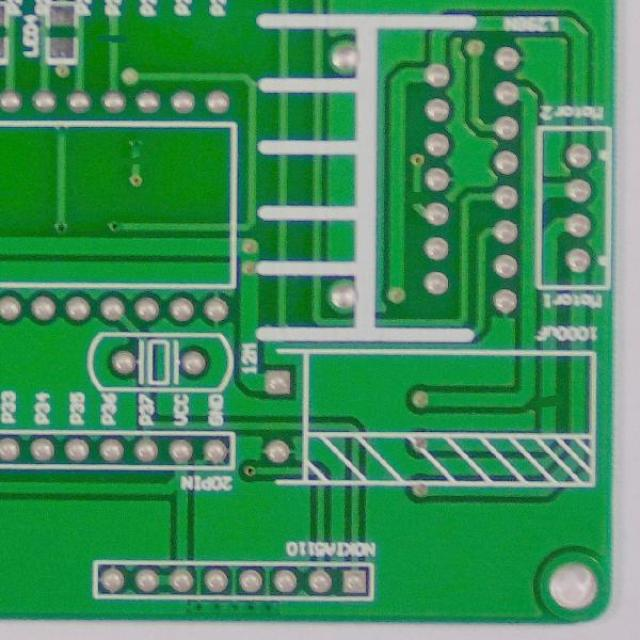Open_Circuit: (534, 385, 566, 417), (403, 182, 428, 212), (103, 26, 126, 53), (123, 147, 145, 172)
